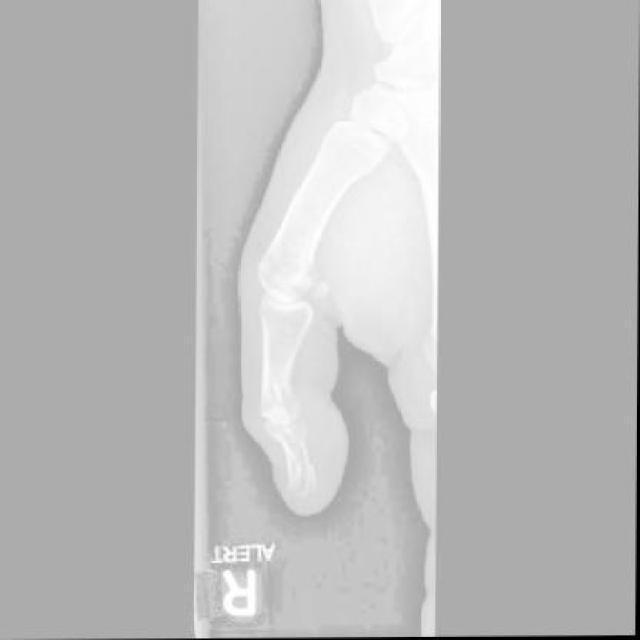Fracture: (268, 422, 324, 501)
